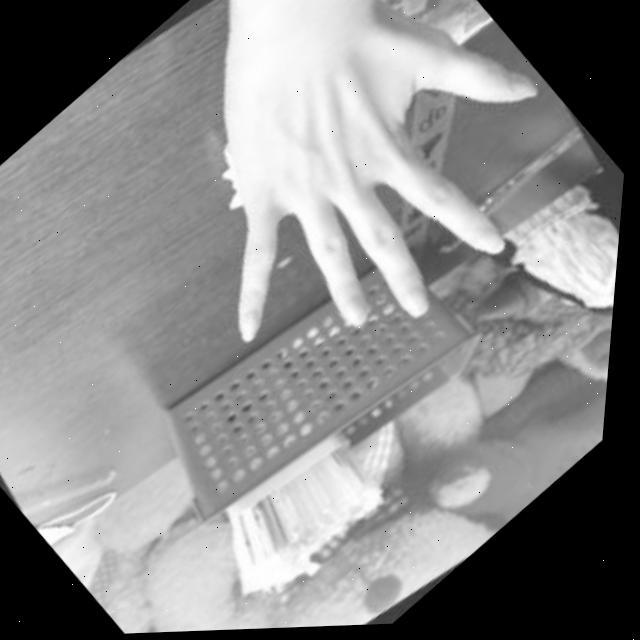hand: (117, 0, 619, 429)
